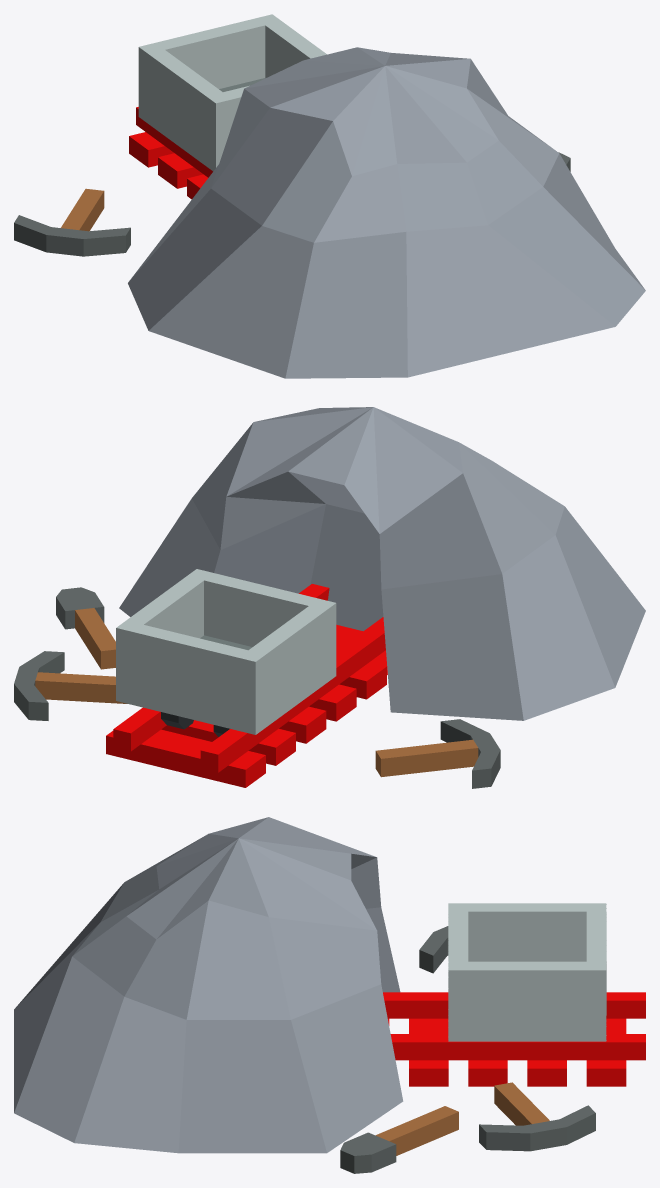
File: mine.fbx
The picture shows the model from 3 angles, top to bottom: view 1: azimuth 30°, elevation 25°; view 2: azimuth 150°, elevation 25°; view 3: azimuth 270°, elevation 25°; orthographic projection. The views are drawn at different scales.
Parts seen in each view (by area): view 1: sphere; view 2: sphere; view 3: sphere.
Boxes of the visible parts, left/top/right/bottom form: sphere: left=14, top=14, right=645, bottom=378; sphere: left=14, top=407, right=645, bottom=788; sphere: left=14, top=817, right=645, bottom=1173.
Size of the model in its own units: 90.47 by 37.5 by 100.
Materials: 2 (2 with a texture image).
